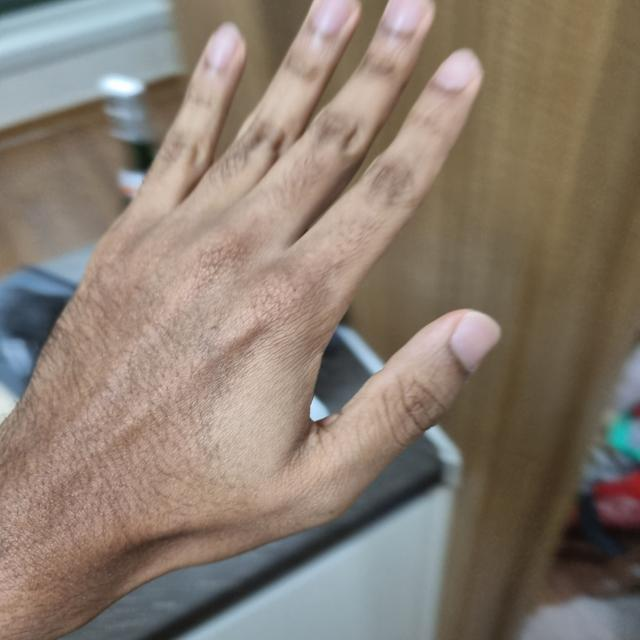Paper: (1, 1, 492, 604)
